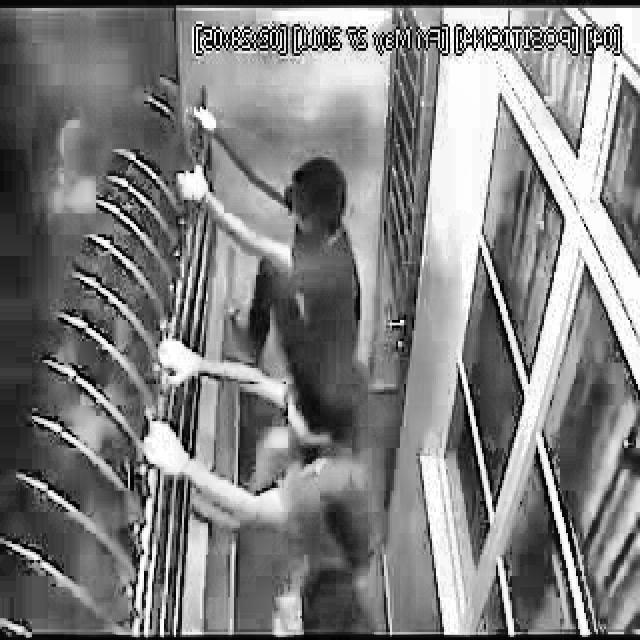burglary: (136, 331, 390, 634), (168, 105, 364, 372)
